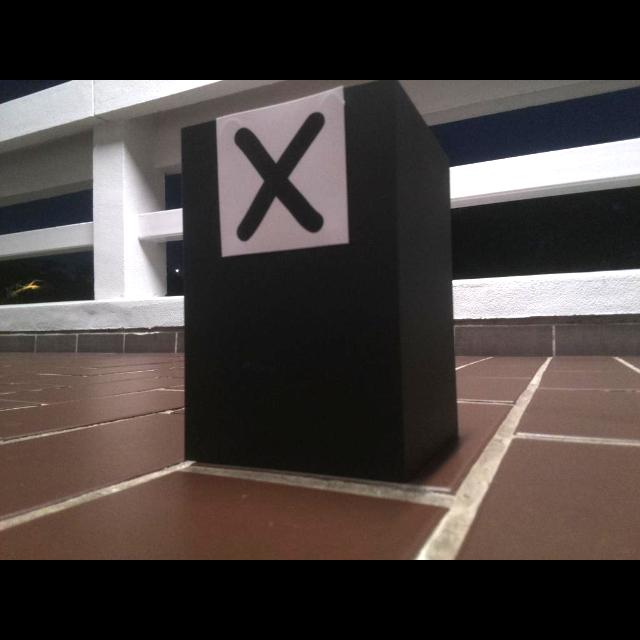X: (234, 112, 325, 242)
